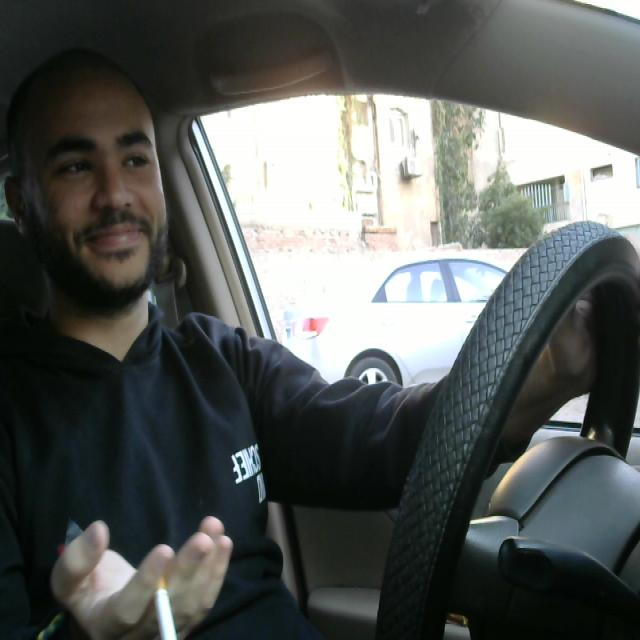smoking: (143, 554, 181, 640)
